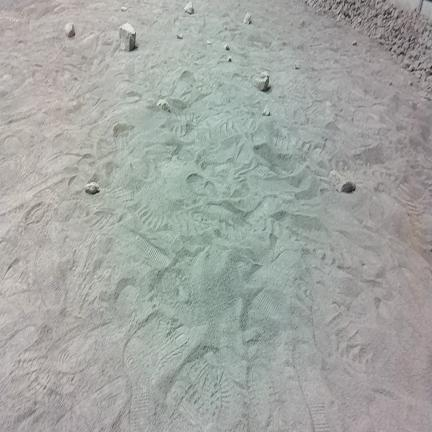Rock: (330, 170, 355, 192), (369, 5, 395, 26), (120, 23, 135, 51), (2, 136, 23, 155), (412, 34, 425, 56), (401, 18, 415, 38), (415, 9, 427, 32), (410, 9, 422, 31), (243, 328, 260, 343), (256, 72, 269, 91), (113, 124, 132, 137), (392, 5, 403, 26), (376, 0, 388, 19), (381, 0, 395, 16), (315, 0, 331, 14), (316, 0, 331, 14), (316, 0, 332, 13), (419, 50, 431, 67), (416, 24, 426, 44), (367, 15, 381, 29), (415, 46, 428, 61), (383, 16, 396, 31), (365, 21, 377, 37), (372, 14, 384, 30), (409, 43, 420, 60), (390, 12, 401, 29), (156, 99, 170, 112), (307, 0, 325, 10), (412, 41, 422, 59), (318, 5, 333, 17), (366, 22, 377, 38), (421, 80, 431, 97), (390, 41, 402, 55), (322, 3, 334, 17), (85, 182, 99, 194), (422, 17, 431, 35), (413, 26, 422, 44), (410, 9, 420, 25), (65, 22, 75, 38), (415, 70, 427, 83), (390, 37, 401, 51), (419, 64, 430, 78), (379, 27, 388, 44), (378, 16, 388, 31), (419, 19, 429, 33), (384, 21, 391, 41), (387, 31, 396, 46), (320, 4, 332, 15), (419, 52, 430, 63), (420, 90, 431, 101), (329, 10, 341, 20), (410, 49, 420, 61), (184, 2, 194, 14), (336, 6, 344, 21), (391, 3, 399, 18), (354, 18, 363, 31), (351, 17, 360, 30), (360, 3, 365, 26), (395, 9, 403, 23), (309, 0, 320, 10), (391, 45, 401, 56), (422, 71, 431, 83), (395, 9, 404, 21), (414, 60, 424, 70), (390, 20, 399, 31), (318, 5, 329, 14), (333, 10, 342, 21), (391, 20, 400, 31), (406, 50, 415, 61), (397, 16, 404, 30), (335, 3, 342, 17), (424, 77, 431, 91), (395, 9, 403, 21), (376, 28, 384, 40), (243, 13, 251, 24), (262, 105, 270, 116), (407, 59, 414, 71), (402, 60, 411, 69), (395, 43, 402, 54), (396, 37, 403, 48), (349, 5, 353, 23), (376, 17, 382, 29), (384, 3, 390, 15), (419, 91, 427, 100), (402, 42, 409, 52), (294, 60, 301, 70), (415, 71, 423, 79), (307, 0, 316, 7), (309, 0, 318, 7), (409, 101, 416, 110), (367, 28, 374, 37), (398, 54, 404, 64), (426, 56, 431, 68), (377, 2, 382, 14), (427, 21, 431, 35), (412, 60, 417, 71), (352, 19, 358, 28), (391, 45, 397, 54), (359, 20, 365, 29), (427, 22, 431, 35), (326, 101, 331, 111), (408, 64, 414, 72), (426, 39, 431, 48), (427, 63, 431, 74), (427, 75, 431, 85), (428, 70, 431, 83), (379, 39, 385, 45), (336, 15, 341, 22), (177, 34, 183, 39), (224, 44, 229, 50), (121, 6, 127, 11), (207, 40, 212, 45), (408, 80, 413, 85), (352, 41, 357, 45), (389, 80, 392, 86), (224, 25, 227, 30), (228, 57, 231, 62)
